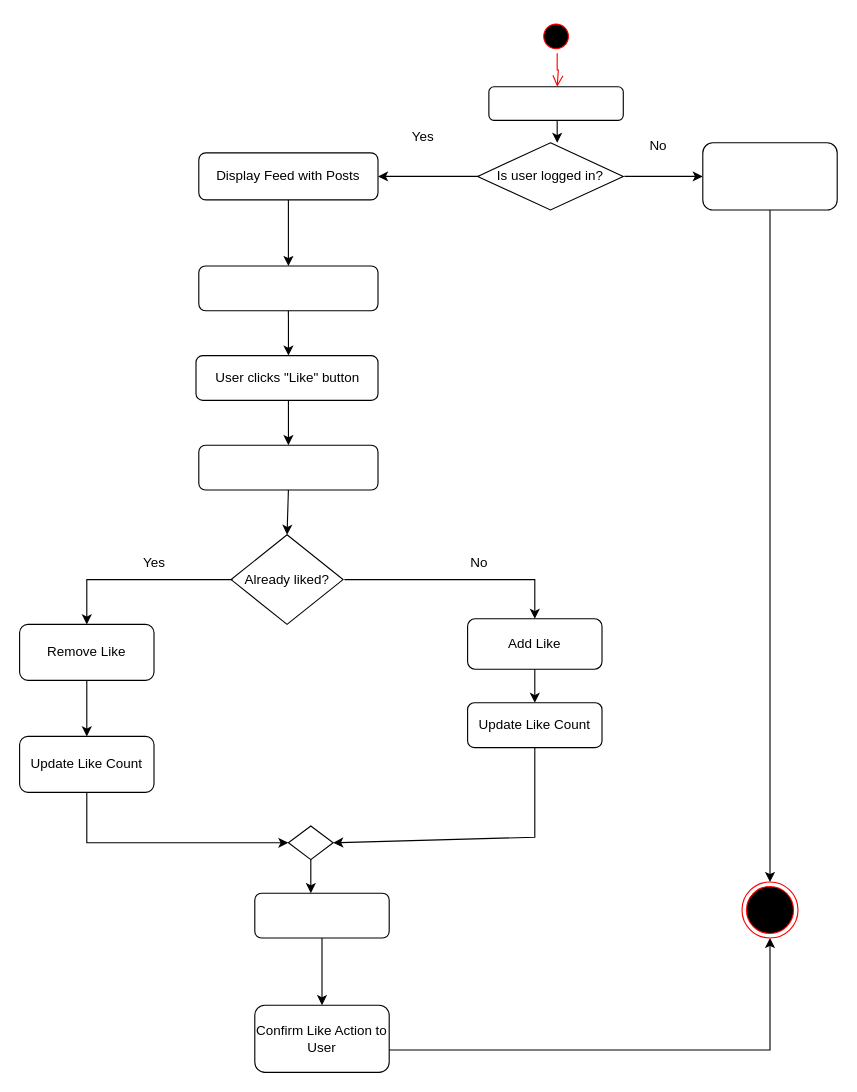
This 857x1092 diagram has some shape labels left out. Here are the shapes that lost their labels. From the top down, the box of each, then its label:
(488, 86, 623, 120): Log in to system
(702, 142, 837, 210): show login error
(198, 265, 378, 311): User selects a post to like
(198, 444, 378, 490): Check if already liked
(254, 892, 389, 938): Update Like Status on Post
